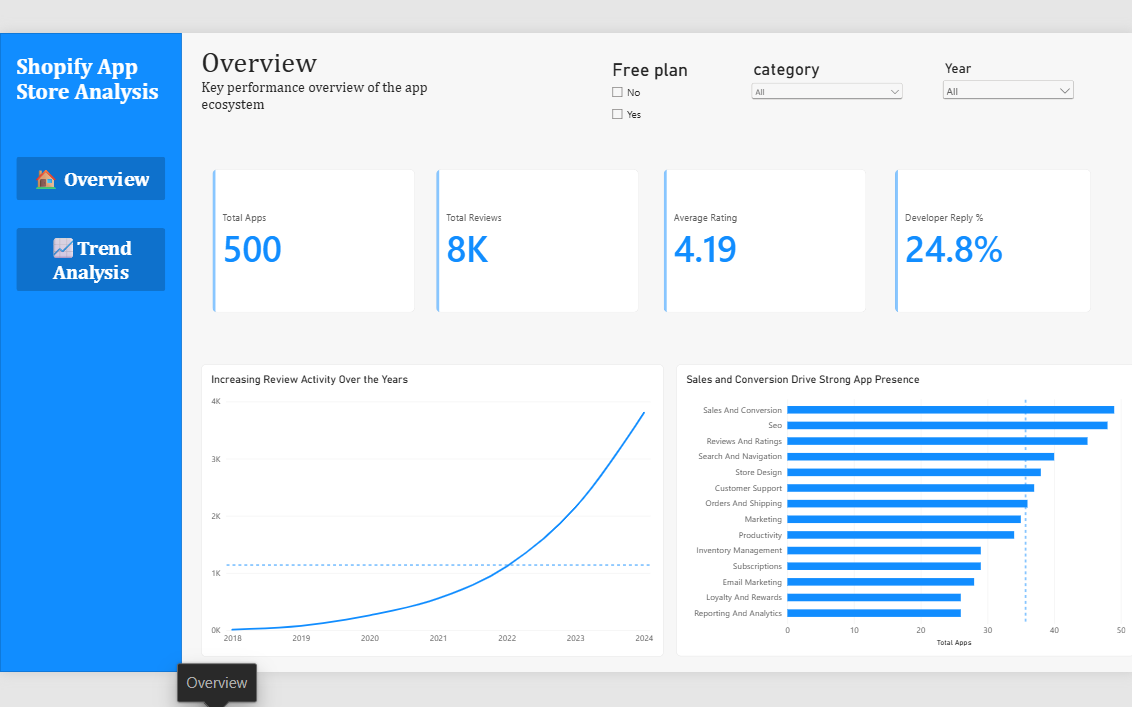

Layout of this report page (visuals, bound fields, positions):
{"tool":"powerbi","page":{"name":"Overview","canvas":[1920,1080],"ordinal":0},"visuals":[{"type":"cardVisual","fields":{"Data":["apps.Total Apps"]},"box":[353.4,230.1,342.3,242.9],"z":0},{"type":"cardVisual","fields":{"Data":["reviews.Total Reviews"]},"box":[738,230.1,342.3,242.9],"z":1000},{"type":"cardVisual","fields":{"Data":["Avg(reviews.rating)"]},"box":[1120.9,230.1,342.3,242.9],"z":2000},{"type":"cardVisual","fields":{"Data":["reviews.Developer Reply %"]},"box":[1512.9,230.1,331.3,242.9],"z":3000},{"type":"slicer","fields":{"Values":["apps.category_name"]},"box":[1266.3,44.2,265,103.1],"z":4000},{"type":"slicer","fields":{"Values":["dim_date.Date"]},"box":[1566.3,53.4,301.5,141.1],"z":5000},{"type":"slicer","fields":{"Values":["apps.has_free_plan"]},"box":[1027,44.2,279.8,116],"z":6000},{"type":"lineChart","title":"Increasing Review Activity With Seasonal Peaks","fields":{"Category":["dim_date.Date.Variation.Date Hierarchy.Year","dim_date.Date.Variation.Date Hierarchy.Month"],"Y":["reviews.Total Reviews"]},"box":[353.4,559.5,767.5,493.3],"z":7000},{"type":"clusteredBarChart","title":"Sales and Conversion Drive Strong App Presence","fields":{"Category":["apps.category_name"],"Y":["apps.Total Apps"]},"box":[1143,559.5,776.7,493.3],"z":8000},{"type":"shape","box":[0,0,307.4,1080],"z":9000},{"type":"textbox","box":[27.6,33.1,252.1,162],"z":10000},{"type":"textbox","box":[340.5,22.1,456.4,163.8],"z":11000},{"type":"actionButton","box":[27.6,209.8,252.1,73.6],"z":12000},{"type":"actionButton","box":[27.6,329.4,252.1,106.7],"z":13000}]}

Visuals, with their boxes on the page's 1920x1080 design canvas (x1, y1, x2, y2). These are canvas units, not pixel positions in the 1132x707 screenshot, which may show the page scaled, cropped or inside an application window:
cardVisual - apps.Total Apps: [353,230,696,473]
cardVisual - reviews.Total Reviews: [738,230,1080,473]
cardVisual - Avg(reviews.rating): [1121,230,1463,473]
cardVisual - reviews.Developer Reply %: [1513,230,1844,473]
slicer - apps.category_name: [1266,44,1531,147]
slicer - dim_date.Date: [1566,53,1868,194]
slicer - apps.has_free_plan: [1027,44,1307,160]
"Increasing Review Activity With Seasonal Peaks" lineChart: [353,560,1121,1053]
"Sales and Conversion Drive Strong App Presence" clusteredBarChart: [1143,560,1920,1053]
shape: [0,0,307,1080]
textbox: [28,33,280,195]
textbox: [340,22,797,186]
actionButton: [28,210,280,283]
actionButton: [28,329,280,436]
